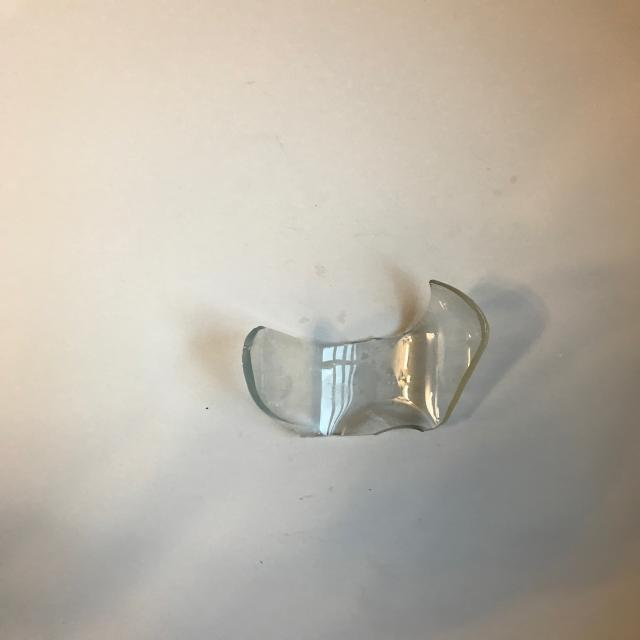glass: (242, 280, 491, 434)
